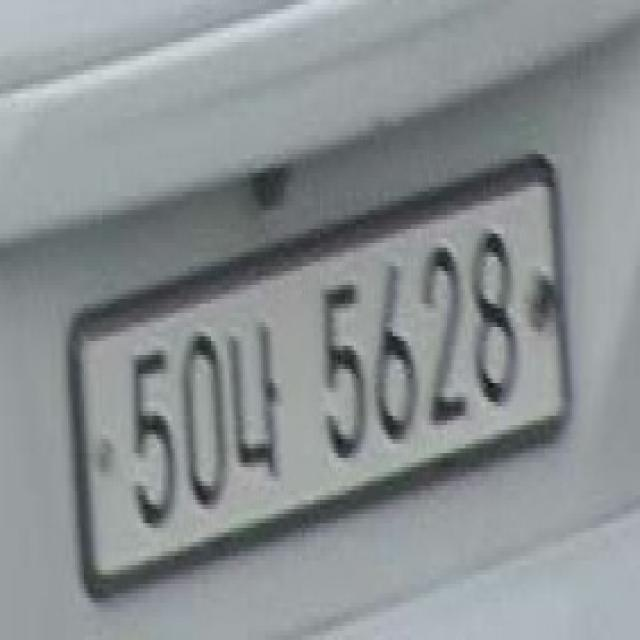0: (183, 319, 224, 511)
2: (423, 235, 466, 432)
5: (320, 285, 367, 462), (132, 351, 176, 534)
6: (372, 260, 417, 450)
8: (472, 222, 518, 419)
license_plate: (66, 136, 581, 610)
na: (227, 310, 282, 491)
